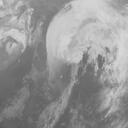cyclone: (46, 1, 122, 66)
